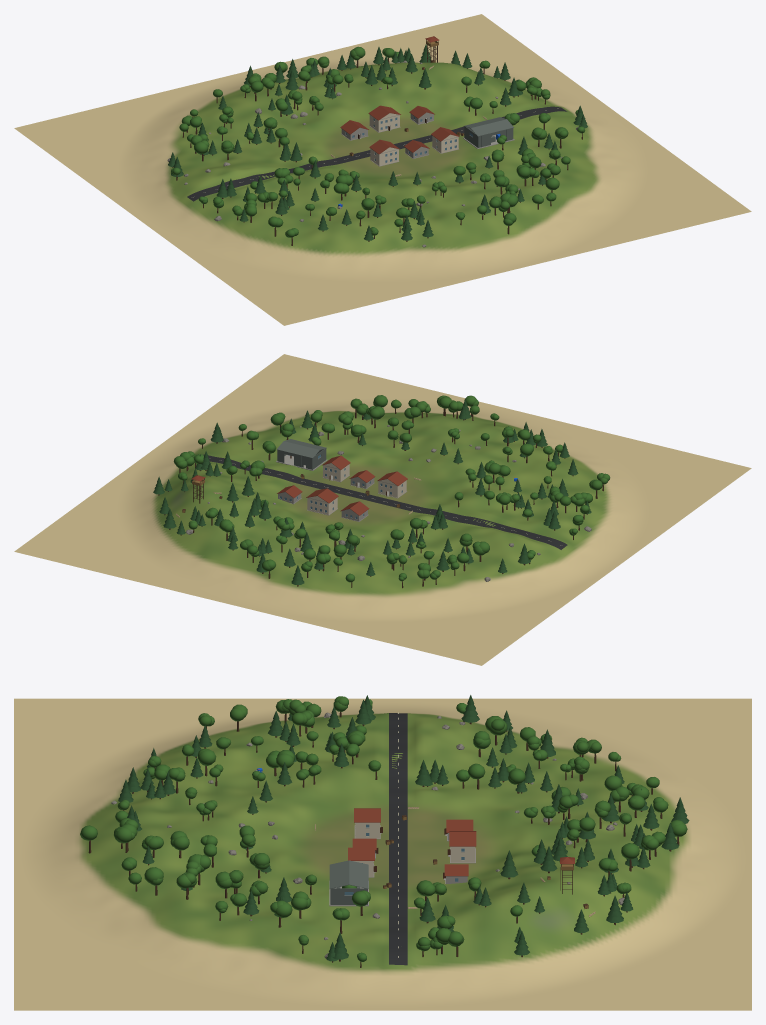
Rendered from training_island.glb.
3 renders of one model, top to bottom at view 1: azimuth 30°, elevation 25°; view 2: azimuth 150°, elevation 25°; view 3: azimuth 270°, elevation 25°, orthographic. The views are drawn at different scales.
Parts seen in each view (by area): view 1: Terrain, Nature_Leaves, Nature_PineLeaves, Asphalt, Nature_Bark, Warehouse_MetalSheet; view 2: Terrain, Nature_Leaves, Nature_PineLeaves, Asphalt, Nature_Bark, Warehouse_MetalSheet; view 3: Terrain, Nature_Leaves, Nature_PineLeaves, Asphalt, Nature_Bark, Warehouse_MetalSheet, Nature_Rock.
Part boxes in pixels (bbox=[...]): Terrain: bbox=[14, 14, 751, 325]; Nature_Leaves: bbox=[171, 46, 585, 237]; Nature_PineLeaves: bbox=[168, 44, 587, 240]; Asphalt: bbox=[187, 106, 567, 201]; Nature_Bark: bbox=[172, 57, 582, 245]; Warehouse_MetalSheet: bbox=[464, 117, 513, 147]; Terrain: bbox=[14, 354, 751, 665]; Nature_Leaves: bbox=[173, 395, 610, 582]; Nature_PineLeaves: bbox=[153, 399, 591, 584]; Asphalt: bbox=[203, 454, 567, 549]; Nature_Bark: bbox=[158, 408, 603, 588]; Warehouse_MetalSheet: bbox=[276, 439, 326, 469]; Terrain: bbox=[14, 698, 751, 1010]; Nature_Leaves: bbox=[80, 696, 687, 961]; Nature_PineLeaves: bbox=[118, 695, 689, 961]; Asphalt: bbox=[389, 713, 407, 965]; Nature_Bark: bbox=[88, 711, 679, 967]; Warehouse_MetalSheet: bbox=[329, 860, 368, 904]; Nature_Rock: bbox=[111, 712, 624, 958].
Size of what is drawn, in the model's own units: 240 by 27.18 by 240.
